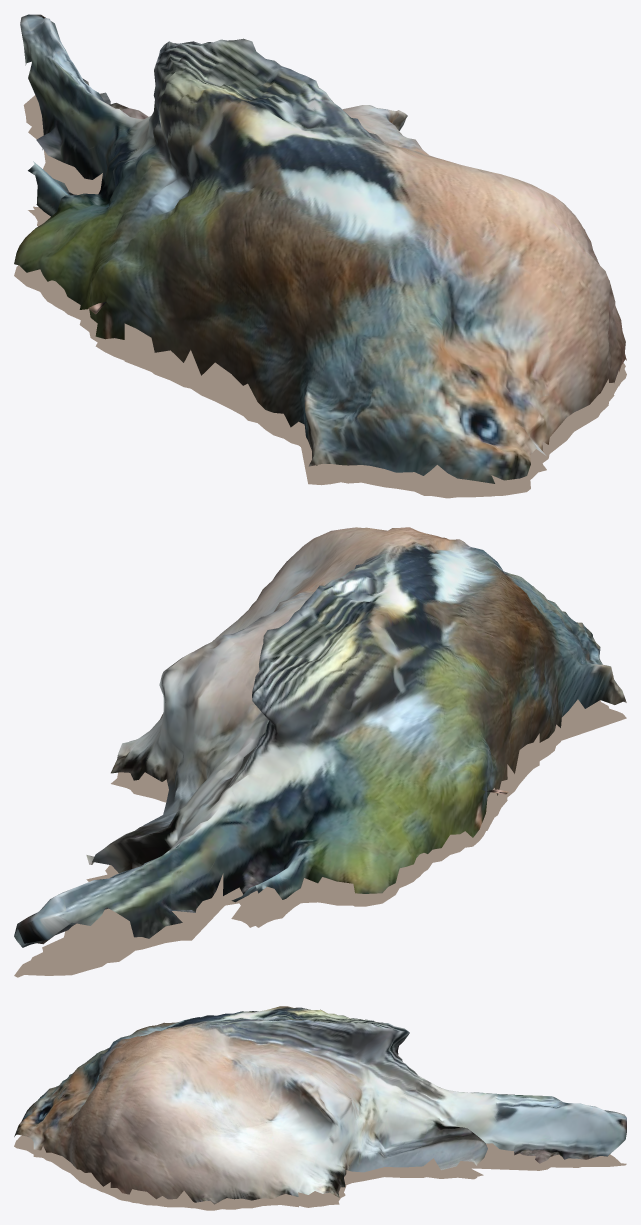
Rendered from chaffinch.glb.
3 renders of one model, top to bottom at view 1: azimuth 30°, elevation 25°; view 2: azimuth 150°, elevation 25°; view 3: azimuth 270°, elevation 25°, orthographic. The views are drawn at different scales.
Visible parts, largest first — view 1: chaffinch; view 2: chaffinch; view 3: chaffinch.
Part boxes in pixels (x1,y1,x2,y2): chaffinch: (14, 14, 626, 498); chaffinch: (14, 527, 626, 977); chaffinch: (14, 1006, 626, 1210).
Bounding box in the file's own units: 0.1747 × 0.0989 × 0.38.
2 materials, 1 textured.
